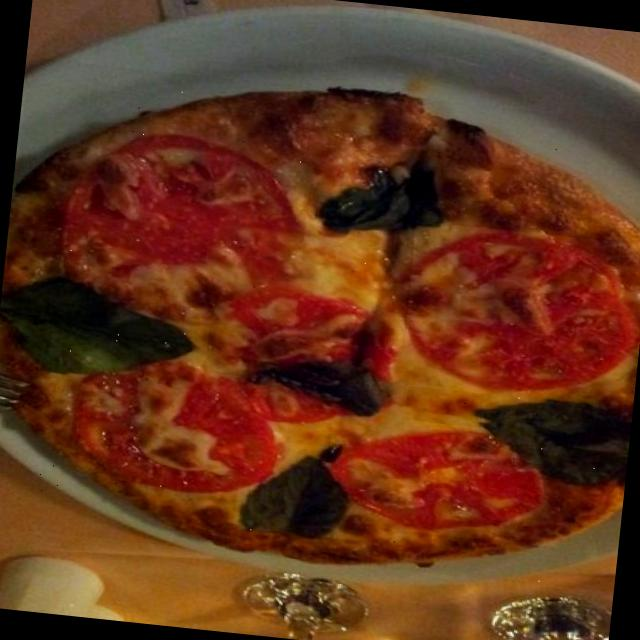basil: (0, 274, 212, 389), (474, 381, 634, 502), (234, 438, 398, 544), (314, 144, 458, 256), (245, 334, 411, 430)
pizza: (0, 89, 640, 564)
tomato: (68, 140, 311, 330), (400, 221, 640, 409), (322, 412, 567, 547), (76, 360, 292, 497)
